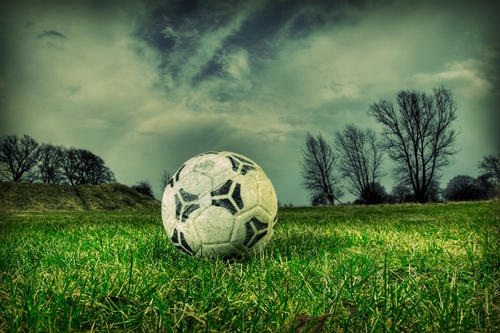football: (158, 143, 278, 264)
